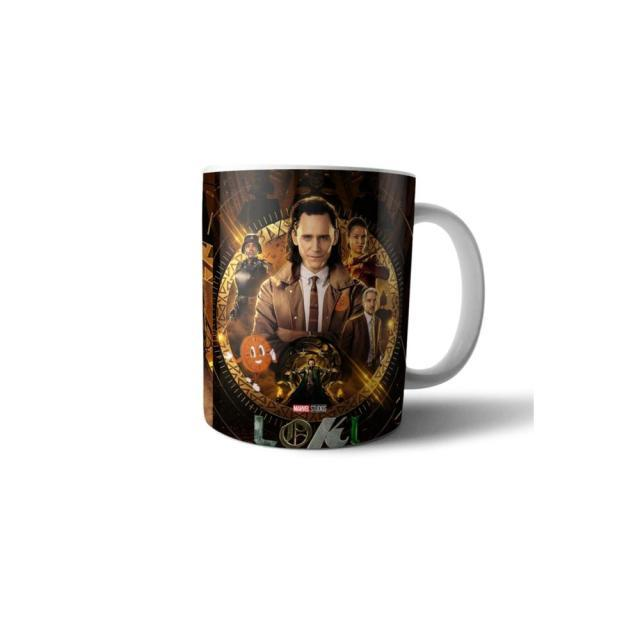Coffee Mug: (201, 164, 486, 452)
